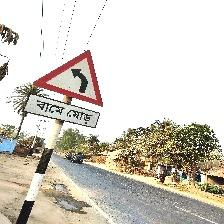Left-Turn: (23, 50, 105, 130)
